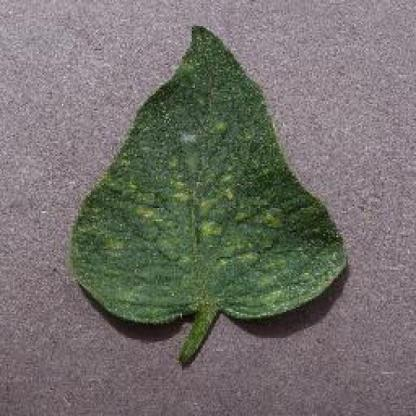Tomato_Spider_Mites: (73, 24, 346, 319)
